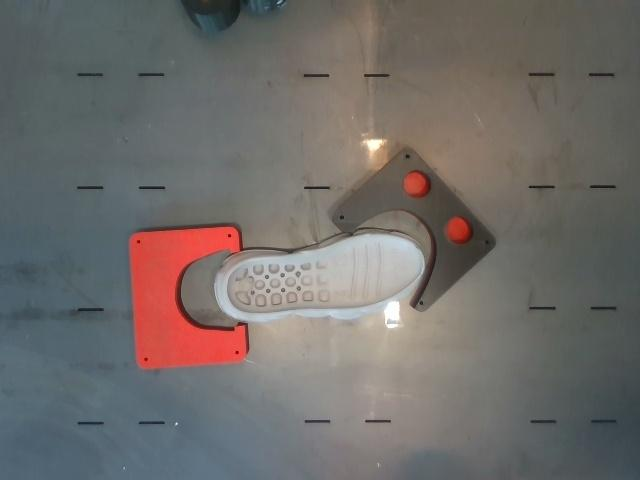shoes: (226, 236, 424, 313)
